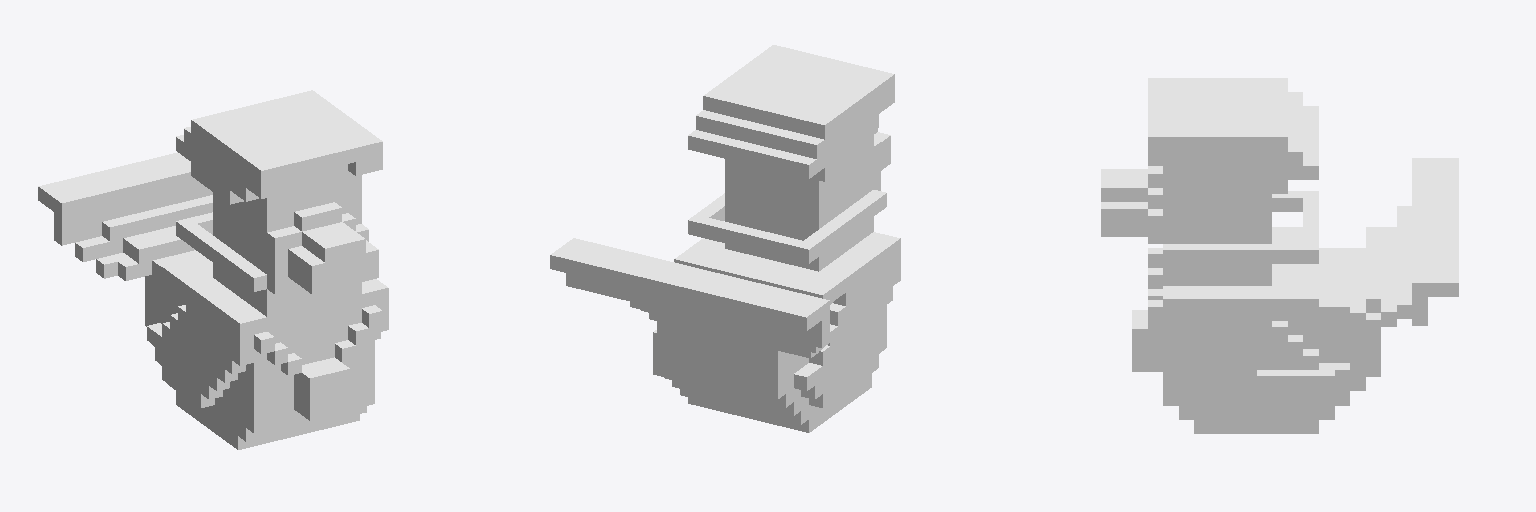
Rendered from Carue_Body.obj.
3 renders of one model, left to right at view 1: azimuth 30°, elevation 25°; view 2: azimuth 150°, elevation 25°; view 3: azimuth 270°, elevation 25°, orthographic.
Visible parts, largest first — view 1: object 1; view 2: object 1; view 3: object 1.
Boxes of the visible parts, x1,y1,x2,y2 form: object 1: [38, 90, 388, 449]; object 1: [550, 45, 900, 432]; object 1: [1101, 78, 1458, 433].
Bounding box in the file's own units: 1.9 × 2.1 × 2.3.